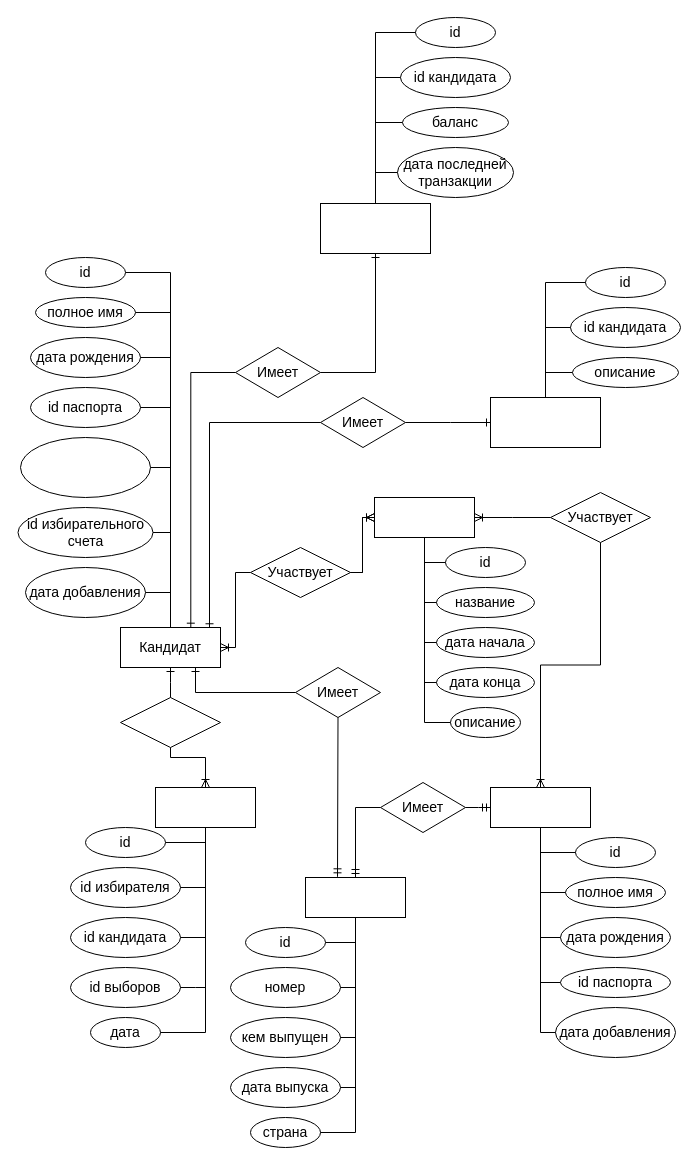
Image size: 698x1165. Some labels were removed from this diagram. The shapes that lost their labels are listed below. From the top down, each one's box as (x1, y1, x2, y2) in pixels, then its label:
(320, 202, 430, 254): Избирательный счет
(490, 396, 600, 448): Предвыборная программа
(20, 436, 150, 498): id предвыборной программы
(374, 496, 474, 538): Выборы
(120, 696, 220, 748): Получает
(154, 786, 256, 828): Голос
(490, 786, 590, 828): Избиратель
(304, 876, 406, 918): Паспорт
